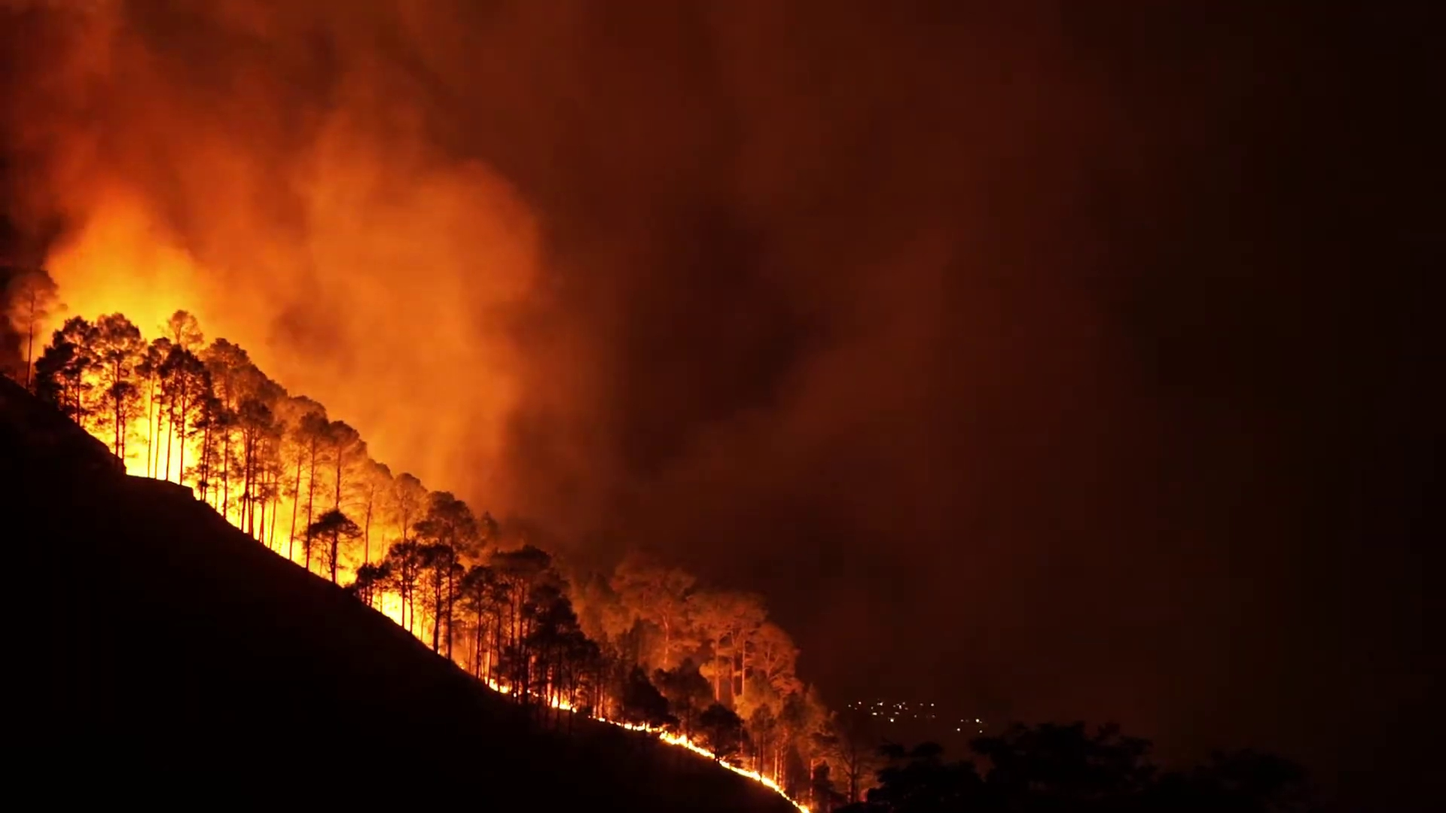forest_fire: (10, 274, 840, 810)
